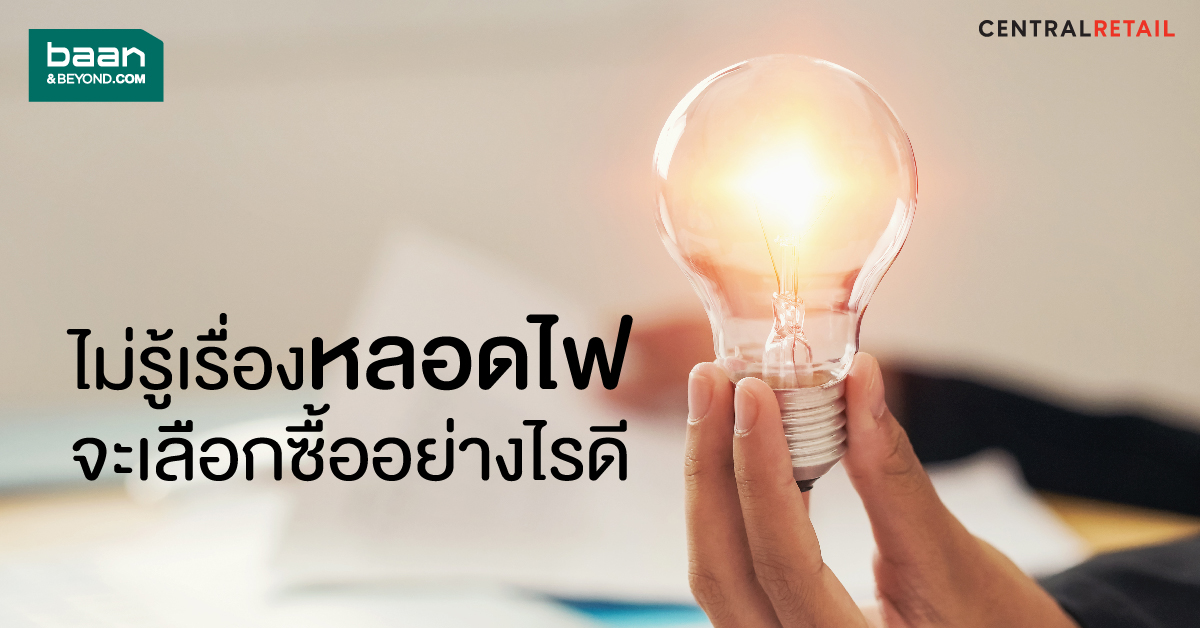Light_bulb: (646, 44, 926, 506)
